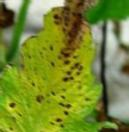Tomato Septoria leaf spot: (0, 0, 124, 132)
